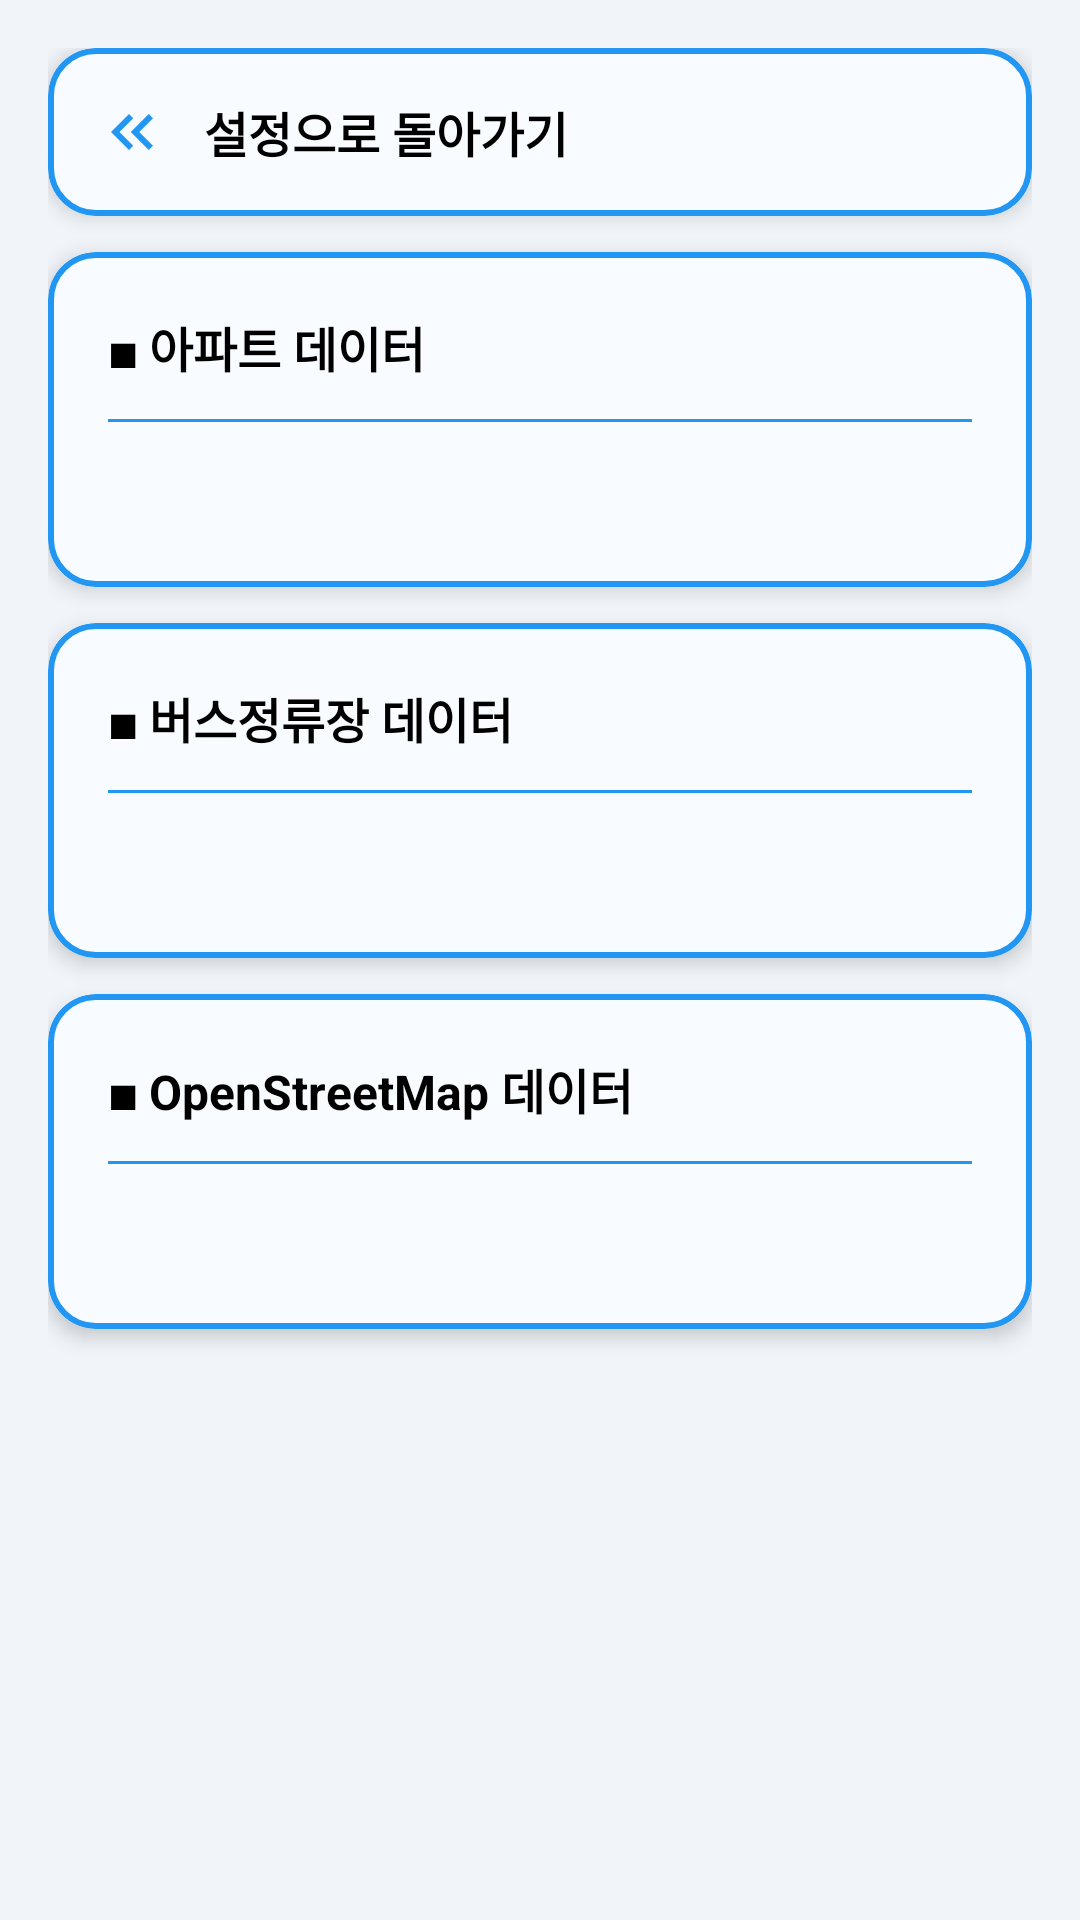

Screen size 1080×1920. Icon name, then its center in pixels as [x,y]:
돌아가기 아이콘: [132,132]
